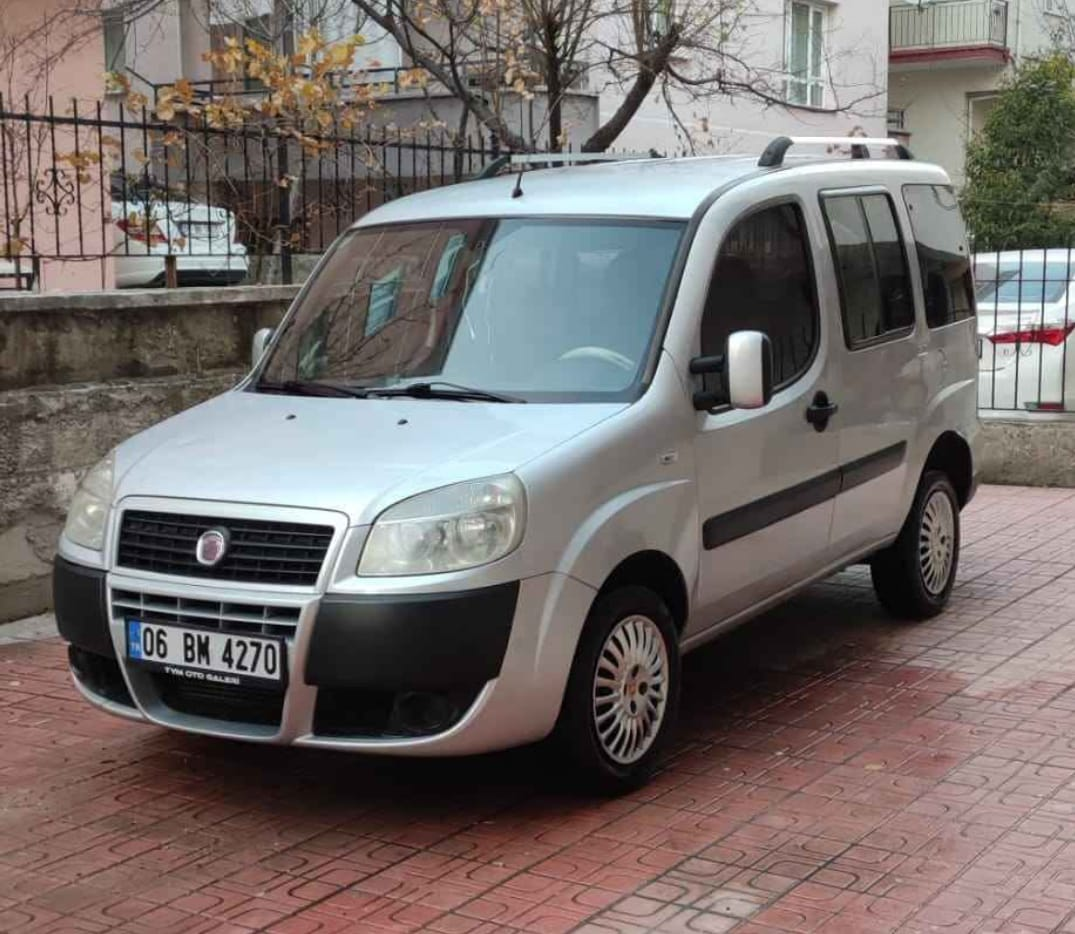plaka: (129, 621, 285, 683)
